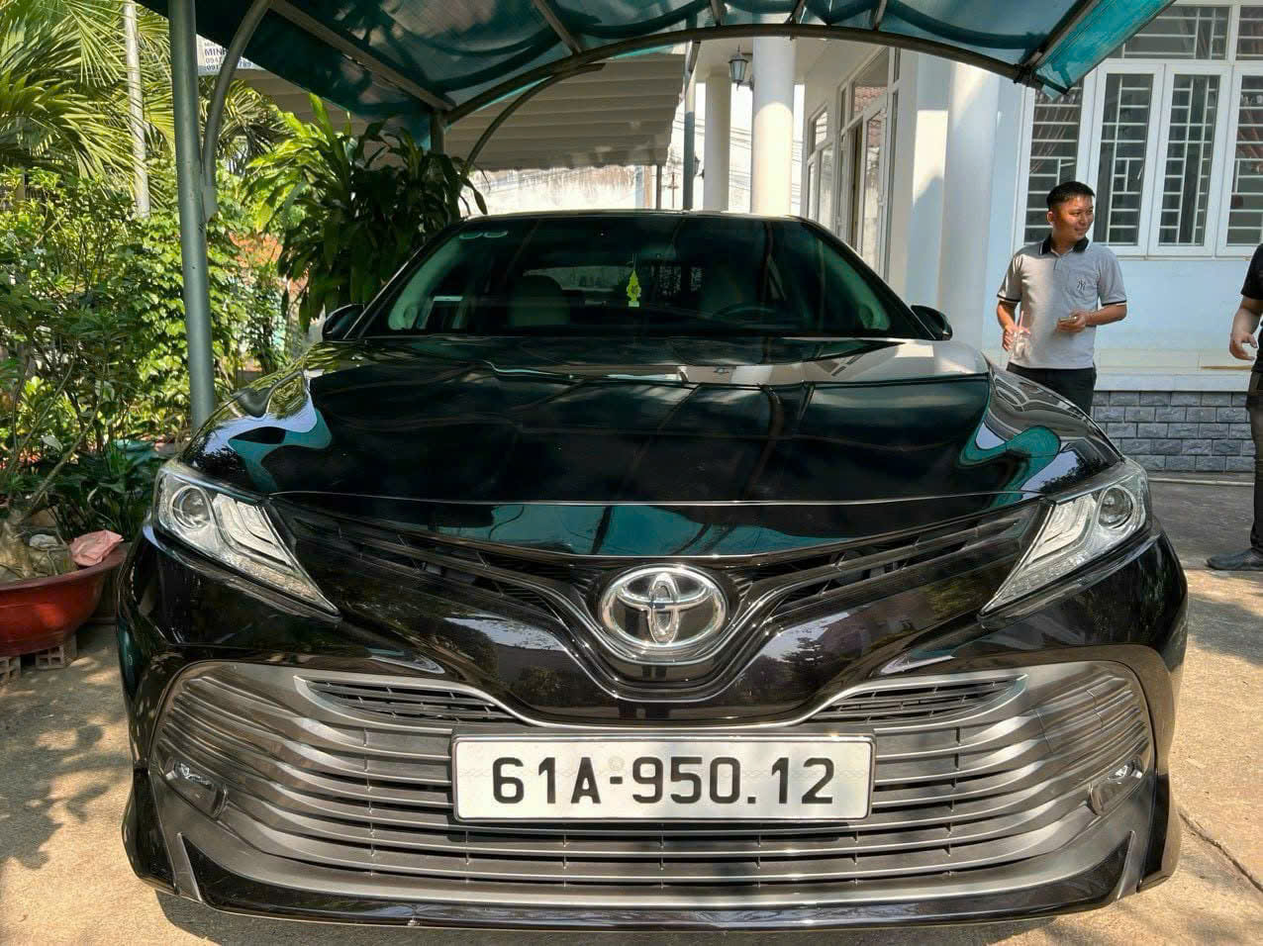Bien-so: (451, 727, 877, 831)
